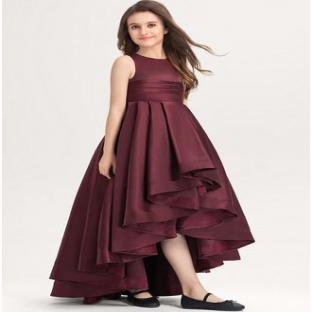Human: (50, 0, 253, 311)
